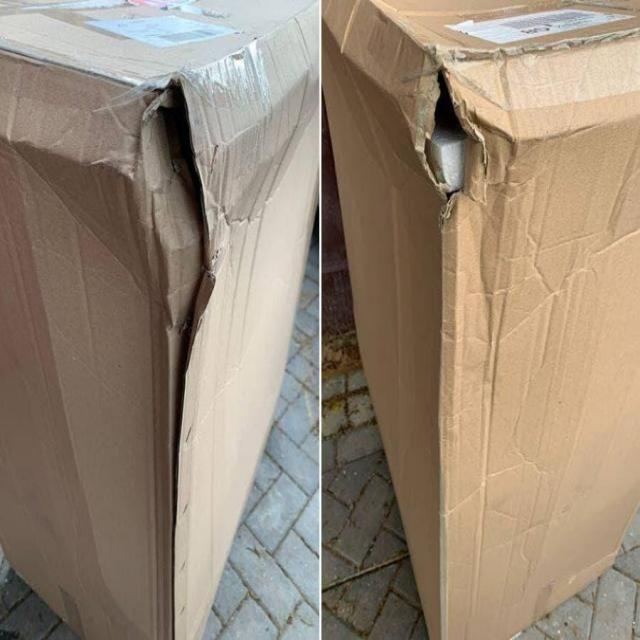damaged: (142, 77, 210, 486), (423, 45, 482, 215)
